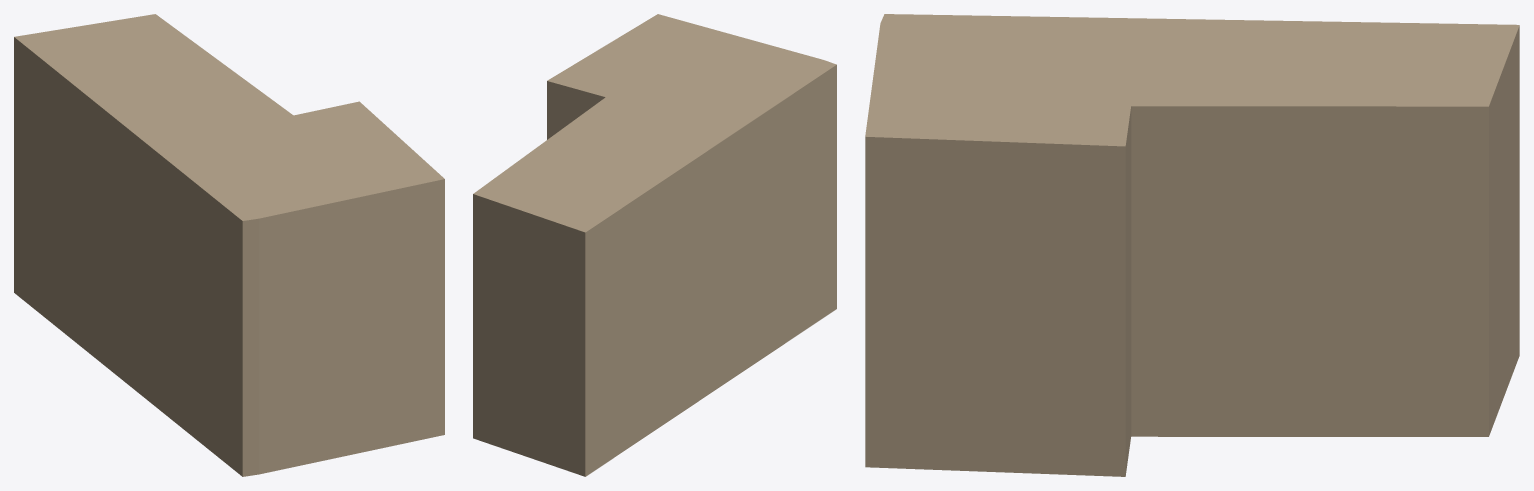
The model's file is bld_98768033.dae.
3 views of the same model, side by side, from view 1: azimuth 30°, elevation 25°; view 2: azimuth 150°, elevation 25°; view 3: azimuth 270°, elevation 25° (orthographic). The views are drawn at different scales.
Parts seen in each view (by area): view 1: Naked Flame; view 2: Naked Flame; view 3: Naked Flame.
Part boxes in pixels (<box>): Naked Flame: <box>14,14,444,476</box>; Naked Flame: <box>473,14,836,476</box>; Naked Flame: <box>865,14,1519,476</box>.
Bounding box in the file's own units: 6.88 × 14.36 × 8.
